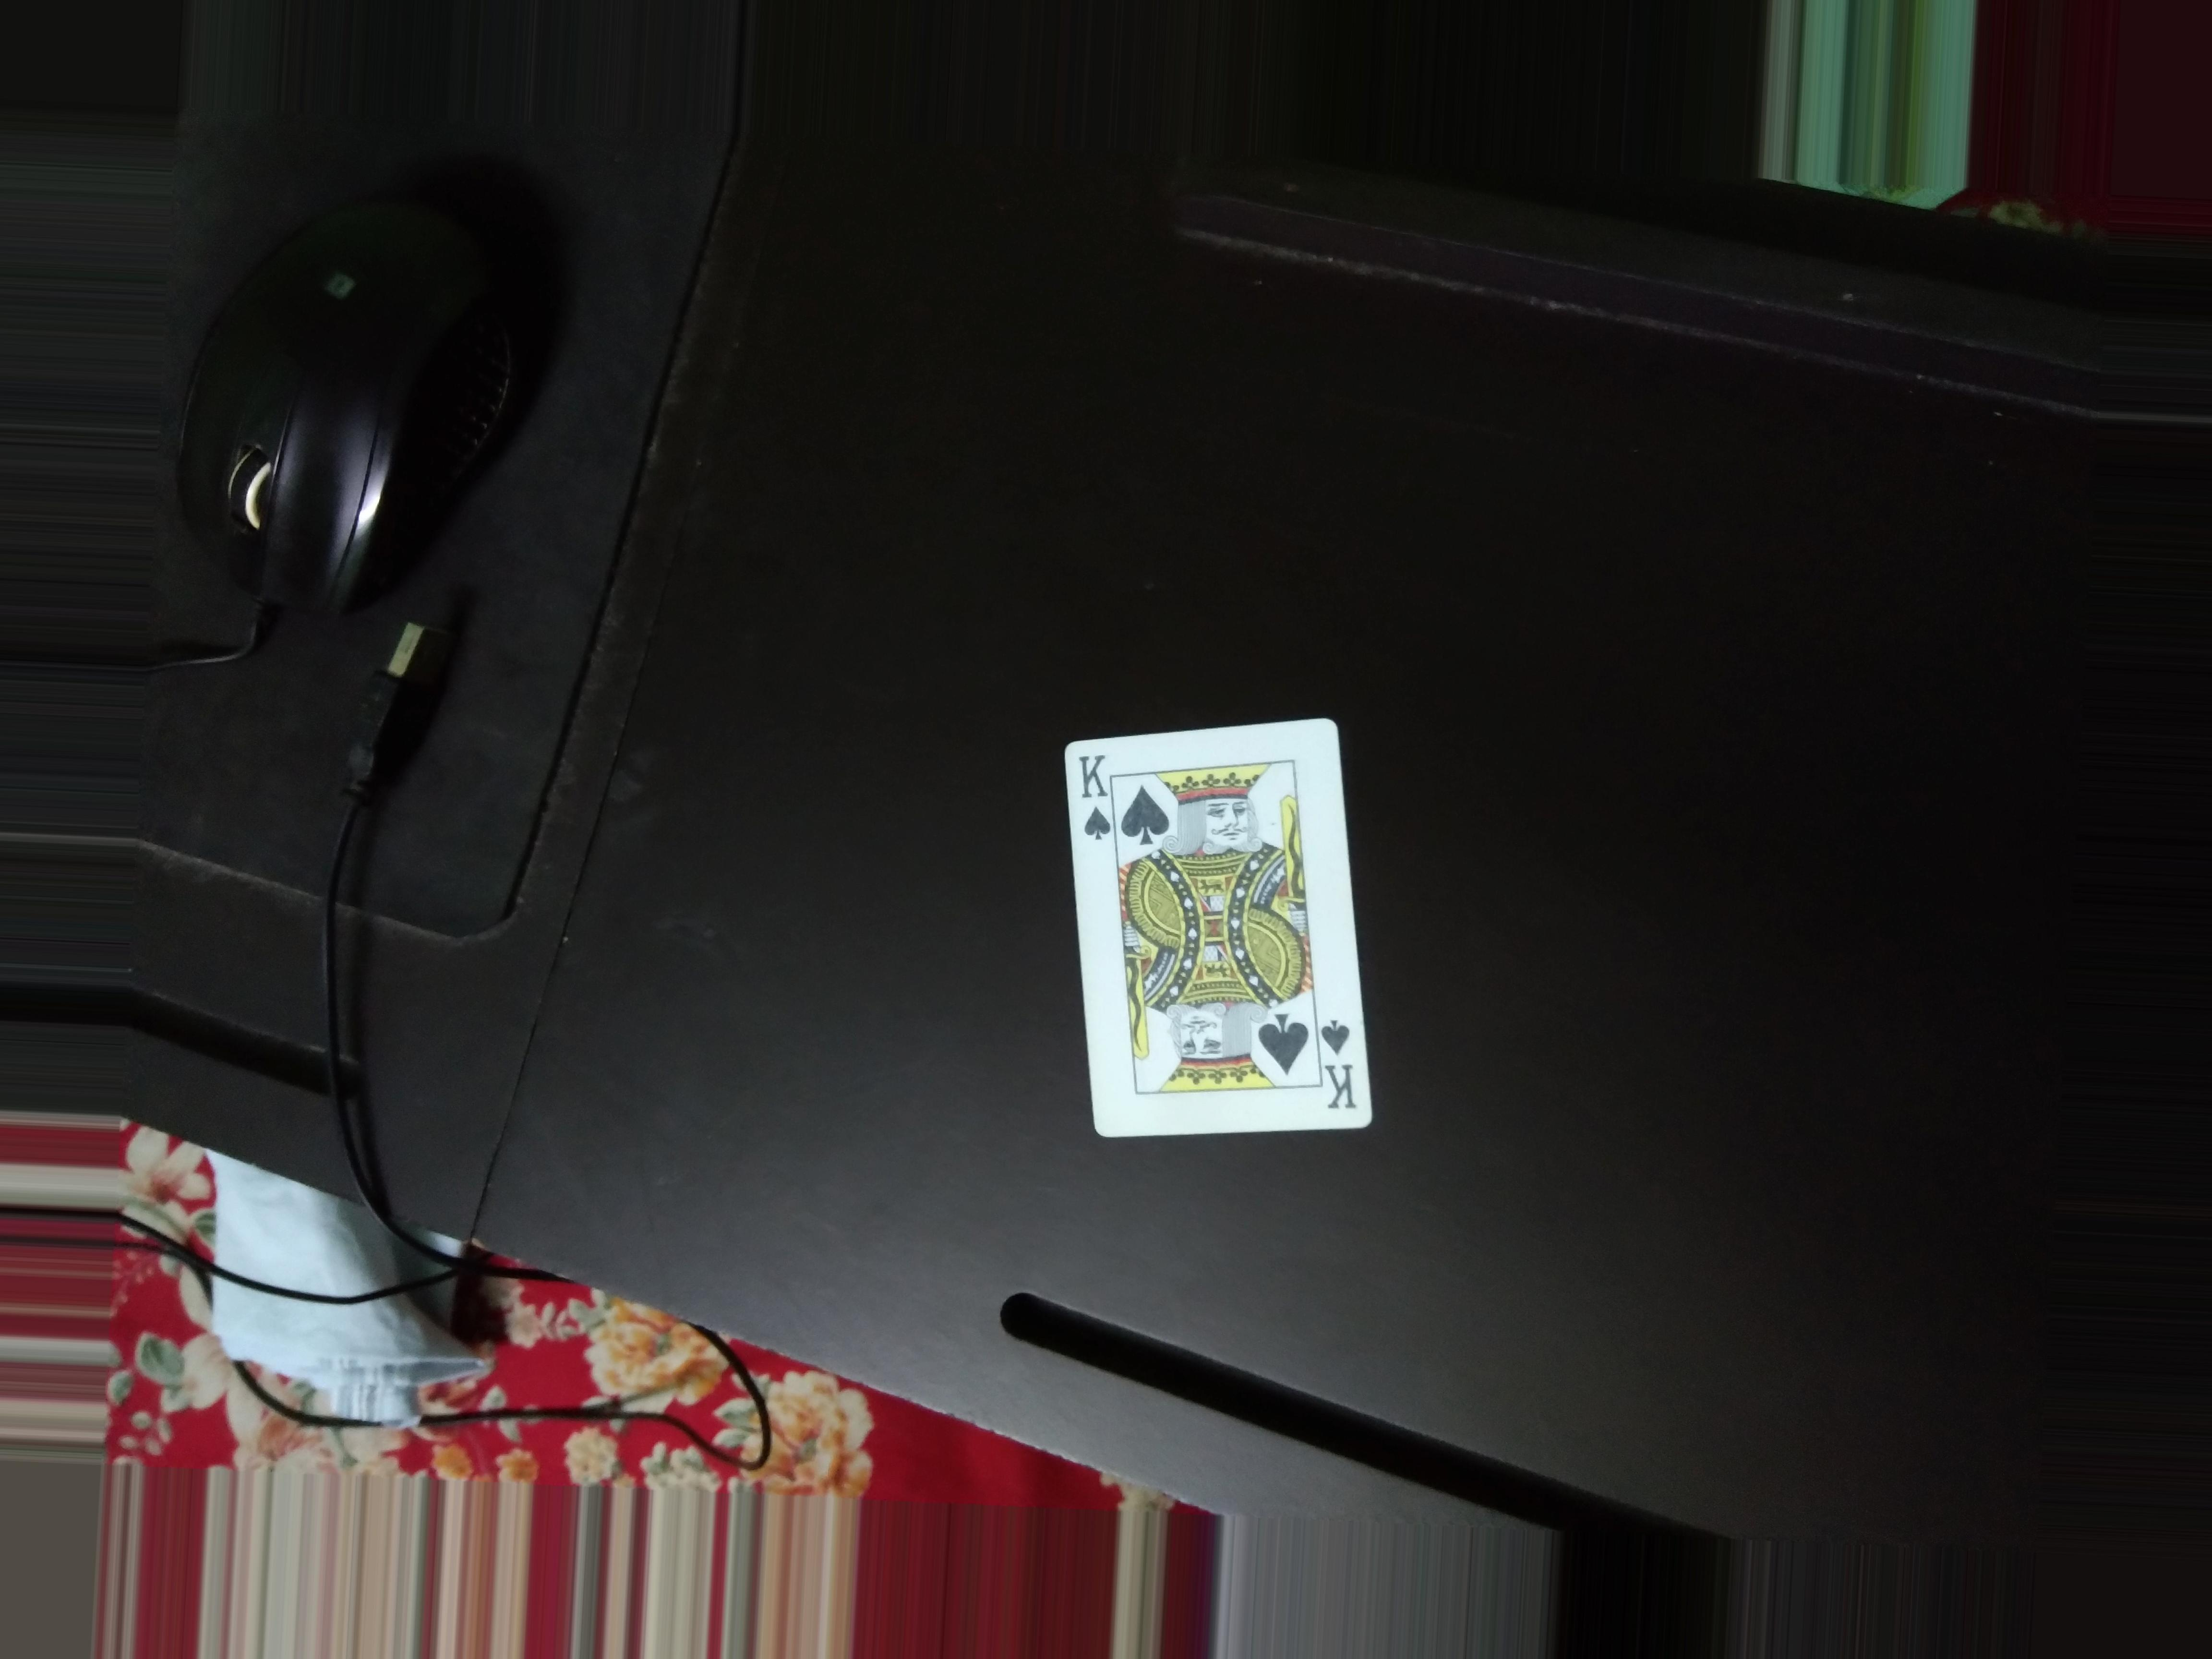KS: (1064, 730, 1106, 850)
